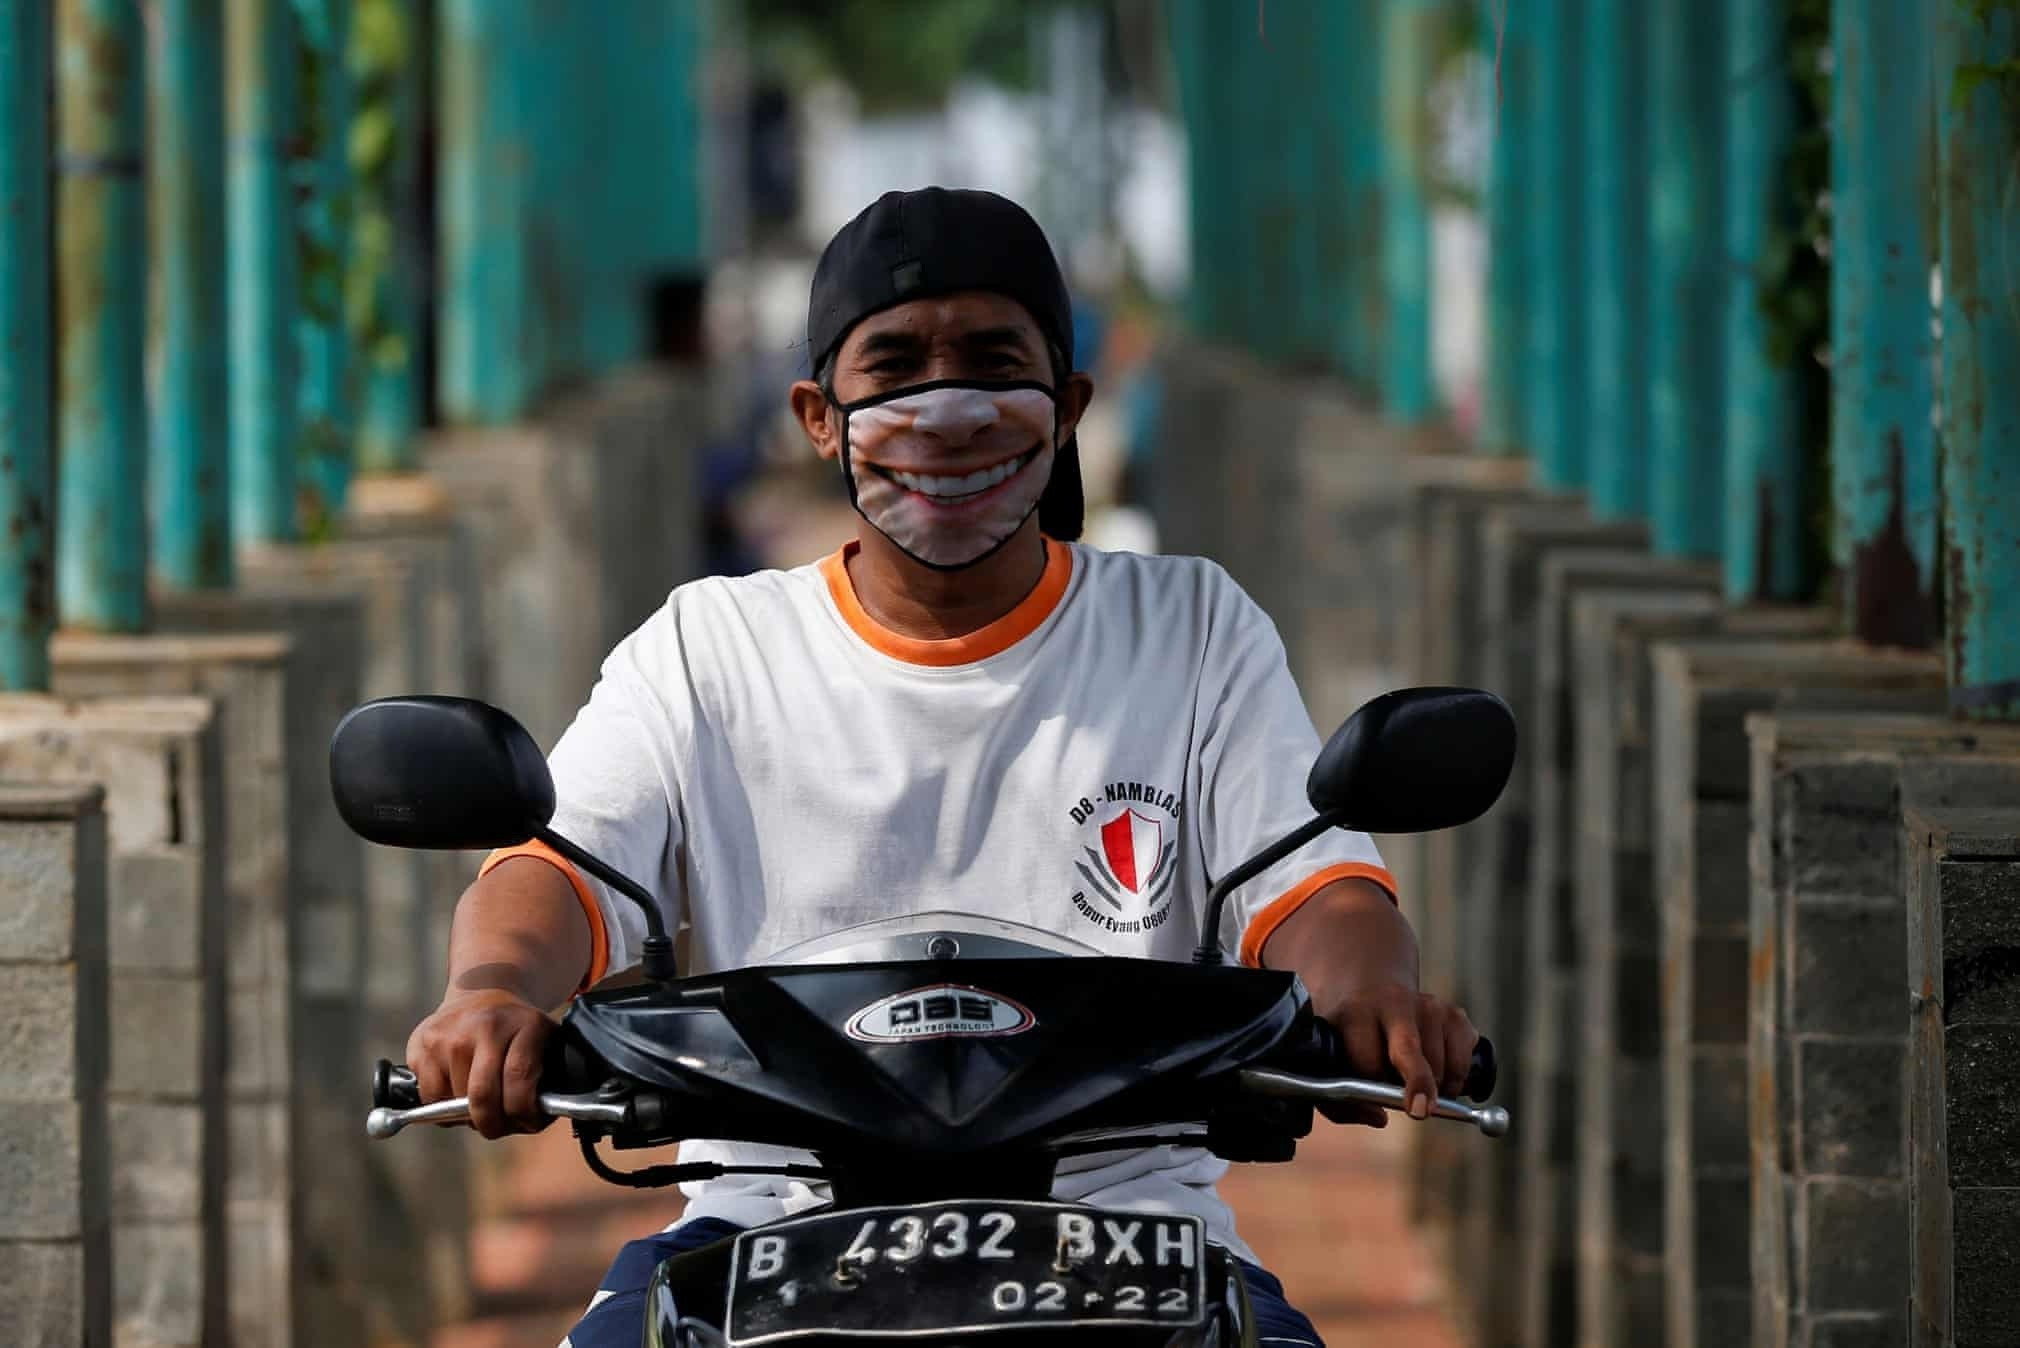face_with_mask: (792, 191, 1094, 579)
